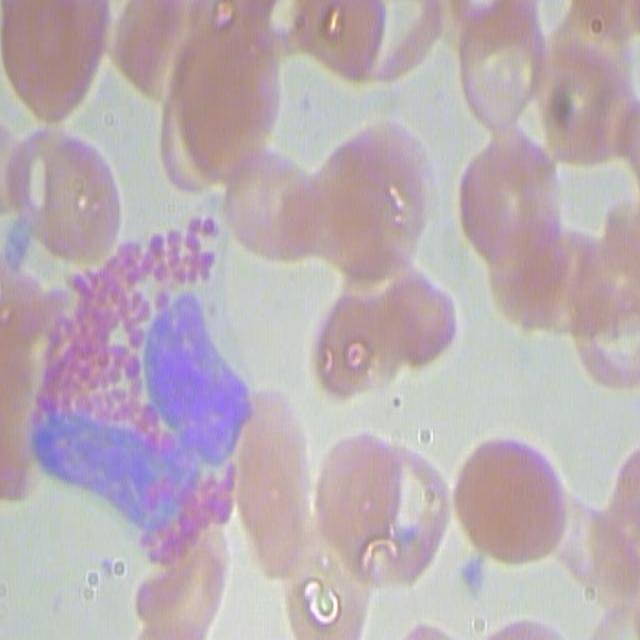RBC: (146, 0, 294, 181), (241, 374, 338, 605), (501, 0, 623, 171), (258, 0, 456, 104), (311, 445, 459, 583), (338, 237, 435, 422), (0, 241, 63, 523), (457, 409, 555, 585), (558, 436, 640, 640), (14, 120, 139, 252), (572, 178, 638, 420), (467, 148, 576, 281), (433, 0, 548, 124), (487, 232, 584, 368), (326, 118, 437, 236), (226, 137, 317, 280), (119, 560, 281, 640), (0, 0, 107, 110), (247, 554, 399, 630), (93, 0, 214, 95)
WBC: (55, 218, 256, 548)
